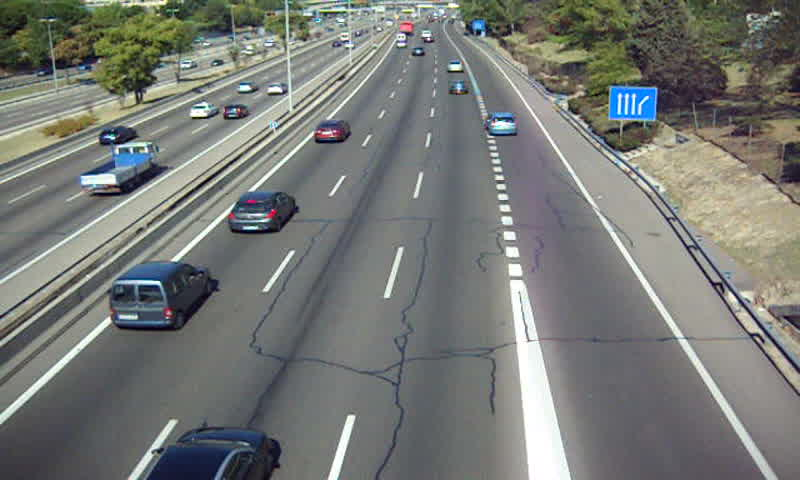car: (228, 192, 296, 231), (312, 120, 351, 142), (486, 111, 518, 135), (447, 79, 468, 94), (446, 59, 464, 71)
van: (107, 262, 212, 328)
